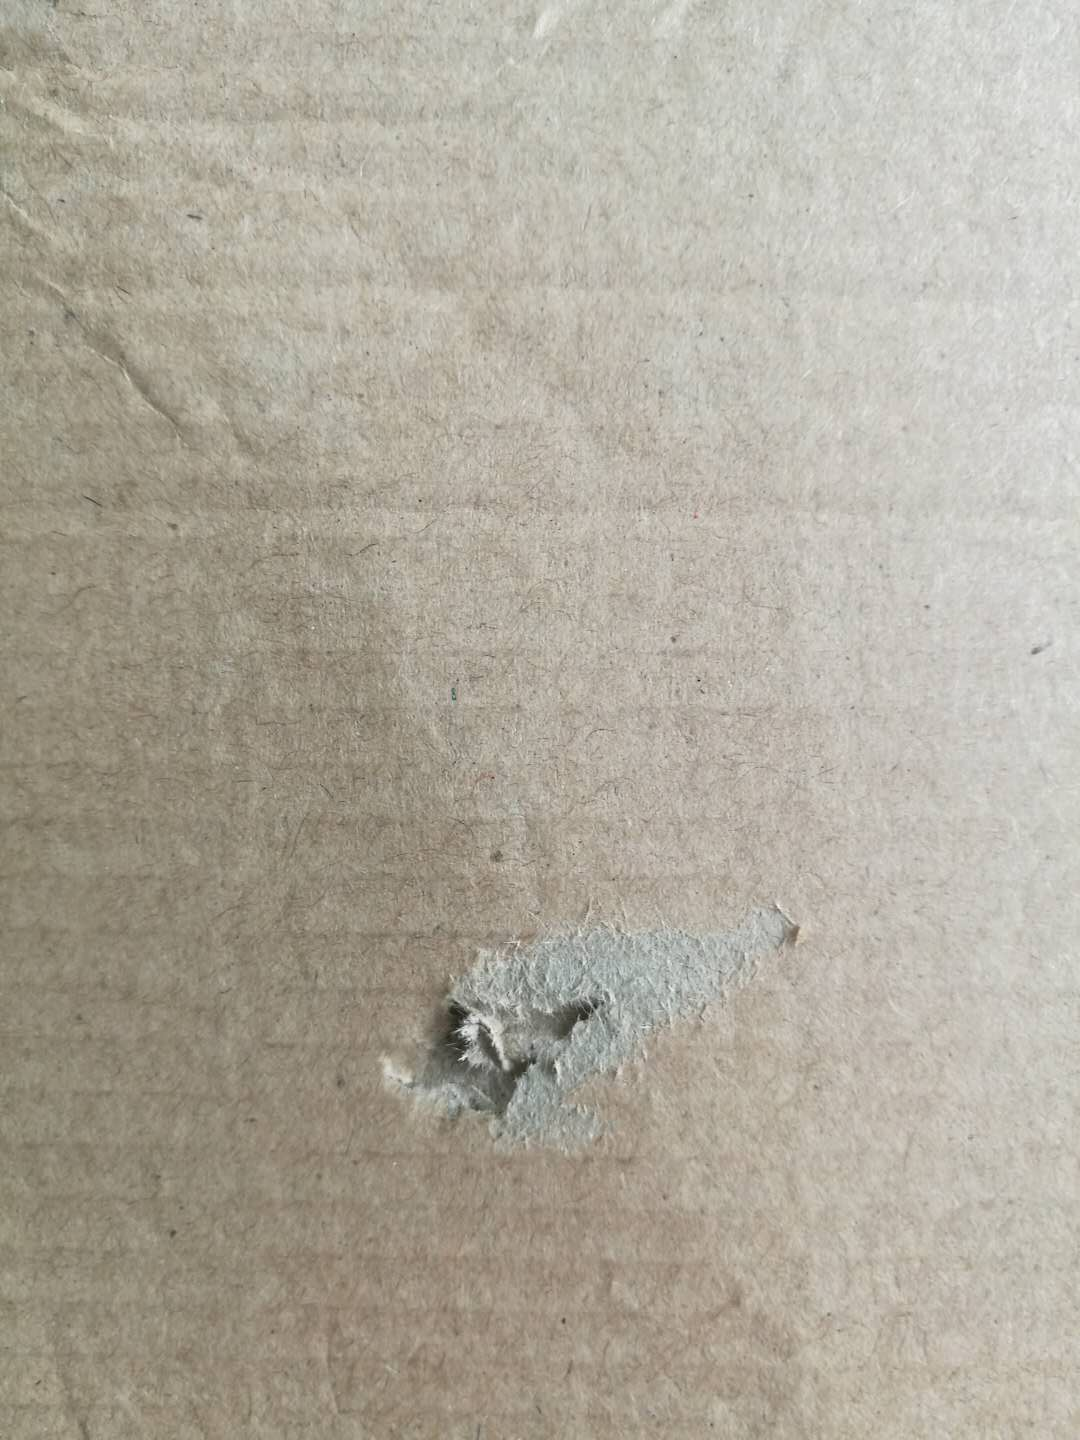defect: (331, 865, 832, 1170)
